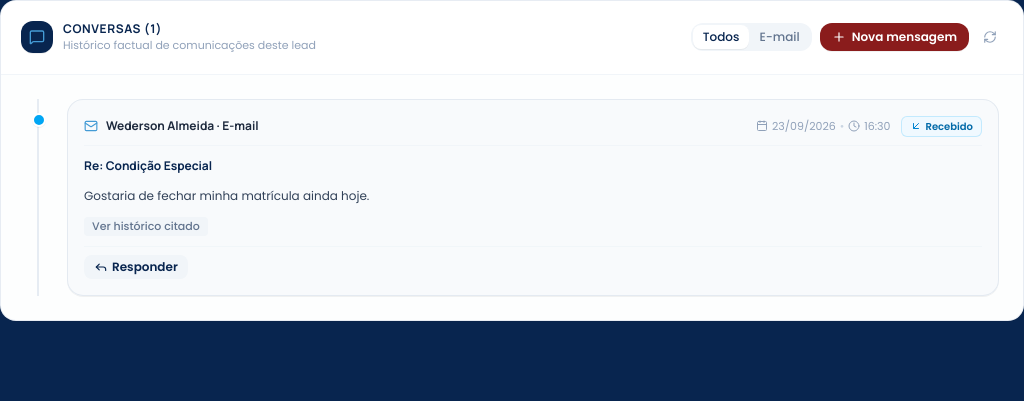
Batch 7.4: Two-Way Email Conversations UI & Threading › cleans quotes: displays fresh reply and reveals quoted text upon clicking toggle
Expected: the element with test id "message-body-in-quote-1" shows "Gostaria de fechar minha matrícula ainda hoje.", [84,186,369,204]
Click the button with test id "toggle-quote-in-quote-1".
click(146, 226)  # box [84,217,208,236]
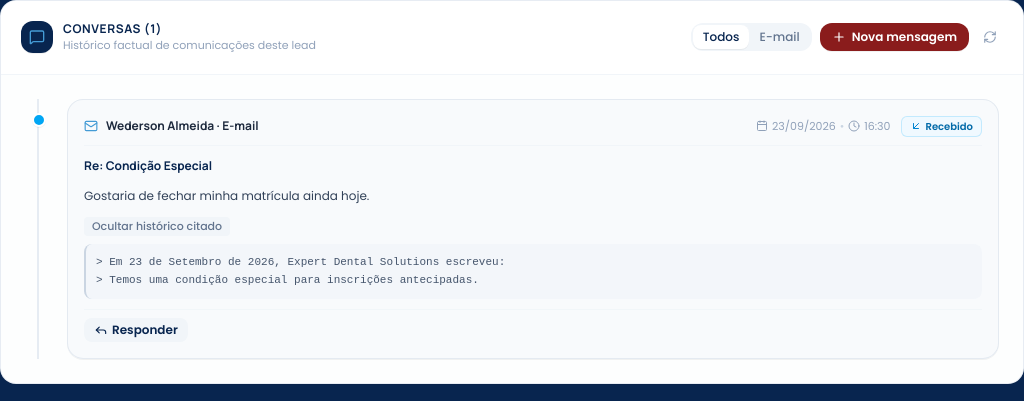
Expected: the text with test id "quoted-text-in-quote-1" is shown, [84,244,982,300]
Expected: the text with test id "quoted-text-in-quote-1" shows "Temos uma condição especial", [96,256,505,286]
Expected: the button with test id "toggle-quote-in-quote-1" reads "Ocultar histórico citado", [84,217,230,236]
